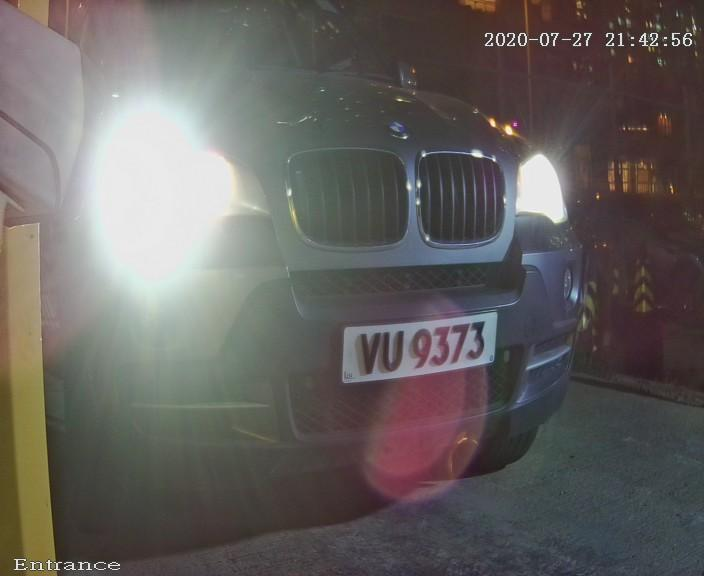privatecar: (59, 13, 607, 511)
